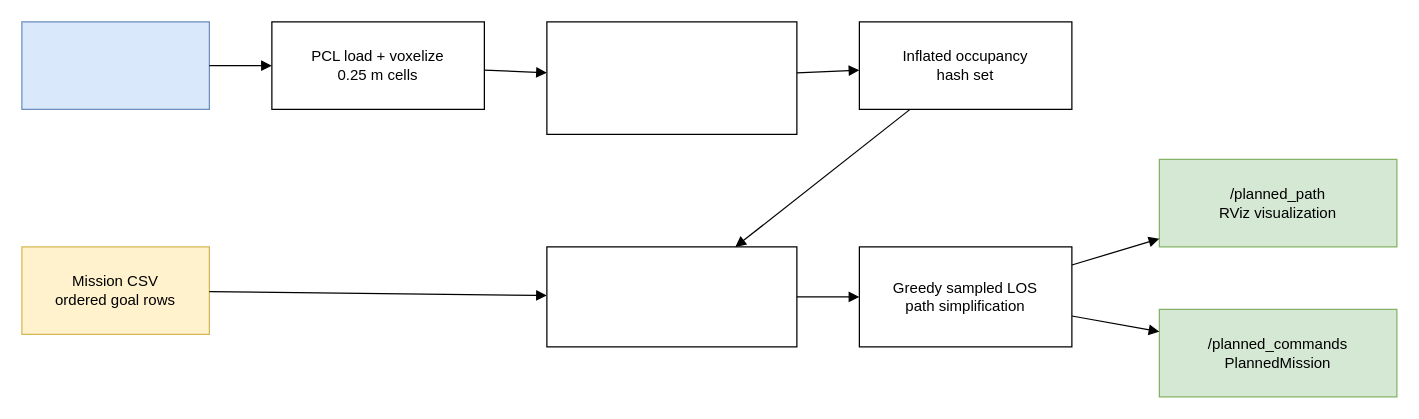
This 1419x419 diagram has some shape labels left out. The shapes that lost their labels are listed below. From the top down, each one's box as (x1, y1, x2, y2) in pixels, then its label:
(21, 21, 209, 109): maps/map.pcd Point cloud
(546, 21, 797, 134): Inflate occupied cells ceil(0.60 / 0.25) = 3 voxels effective 0.75 m radius
(546, 246, 797, 347): 3D 26-connected A* per consecutive goal pair
